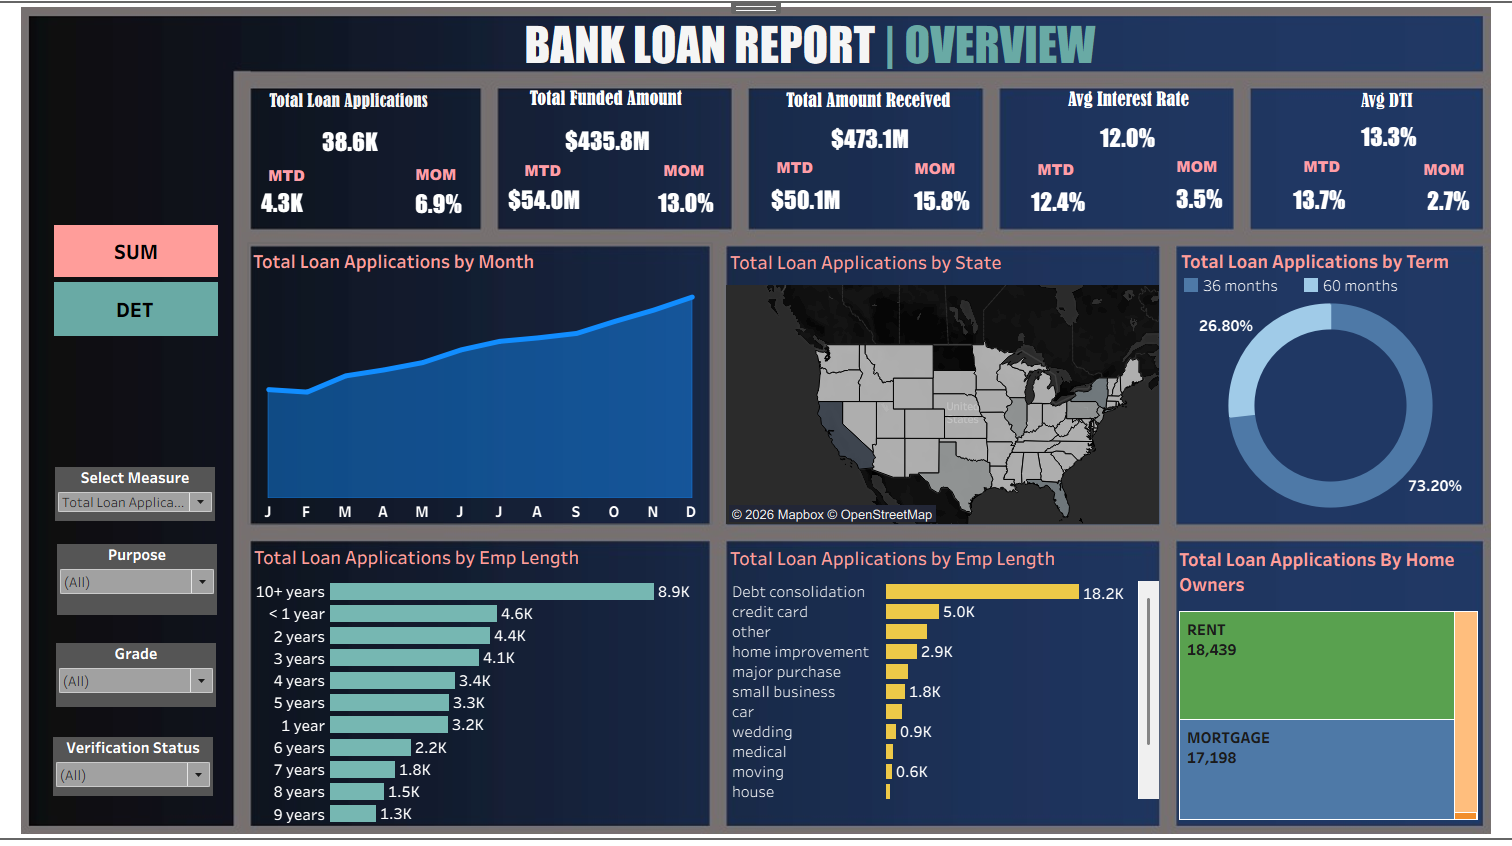

The dashboard page shown, as its layout file describes it:
{"tool":"tableau","page":{"name":"OVERVIEW","canvas":[1000,1000],"units":"permille","ordinal":1},"visuals":[{"type":"image","param":"C:/Users/Dell/OneDrive/Desktop/Bank Loan Project End to End/Tableau Background 2","box":[4.8,9.4,990.3,981.2]},{"type":"text","box":[358,28.2,370.5,59.9]},{"type":"worksheet","title":"Total Funded Amount ","mark":"Automatic","box":[337.9,104.6,144.8,92.8]},{"type":"worksheet","title":"Avg Interest Rate","mark":"Automatic","box":[651.4,105.8,146.7,82.3]},{"type":"worksheet","title":"Total Amount Received ","mark":"Automatic","box":[494.7,106.9,148,82.3]},{"type":"worksheet","title":"Avg DTI ","mark":"Automatic","box":[809.4,106.9,144.8,77.6]},{"type":"worksheet","title":"Total Loan Applications ","mark":"Automatic","box":[183.7,108.1,143,88.1]},{"type":"text","box":[751.4,183.3,32.6,35.2]},{"type":"text","box":[828.2,183.3,30.7,35.2]},{"type":"text","box":[509.7,184.5,32.6,35.2]},{"type":"text","box":[593.1,185.7,33.2,35.2]},{"type":"text","box":[667.5,186.8,29,35.2]},{"type":"text","box":[900.4,186.8,29.6,35.2]},{"type":"text","box":[358,188,34.5,35.2]},{"type":"text","box":[442,188,33.9,35.2]},{"type":"text","box":[196.7,192.7,39.2,38.8]},{"type":"text","box":[292.2,192.7,32.6,35.2]},{"type":"worksheet","title":"MoM Avg  DTI ","mark":"Automatic","box":[888.4,200.9,58.5,84.6]},{"type":"worksheet","title":"MOM Total Loan Application","mark":"Automatic","box":[284.6,205.6,47,81.1]},{"type":"worksheet","title":"MTD Avg  DTI","mark":"Automatic","box":[810,205.6,59.6,71.7]},{"type":"worksheet","title":"MoM Avg INT Rate ","mark":"Automatic","box":[746.5,206.8,42.2,67]},{"type":"worksheet","title":"MTD Total Amount Received ","mark":"Automatic","box":[495.3,211.5,69.6,59.9]},{"type":"worksheet","title":"MTD Total Funded Amount ","mark":"Automatic","box":[337.9,212.7,68.3,58.8]},{"type":"worksheet","title":"MTD Avg INT Rate ","mark":"Automatic","box":[650.2,213.9,64.6,61.1]},{"type":"worksheet","title":"MOM Total Amount Received","mark":"Automatic","box":[582.5,215,58.9,56.4]},{"type":"worksheet","title":"MTD Total Loan Applications","mark":"Automatic","box":[188.9,218.6,50.7,52.9]},{"type":"worksheet","title":"MOM Total Funded Amount","mark":"Automatic","box":[429.5,219.7,55.8,51.7]},{"type":"dashboard-object","box":[76,270.3,99,61.1]},{"type":"worksheet","title":"Month","mark":"Area","rows":["Calculation_1131445127811086","Calculation_1131445127811086"],"cols":["issue_date"],"box":[193.7,292.6,278.8,327.9]},{"type":"worksheet","title":"Term","mark":"Pie","rows":["Calculation_1131445139972112","Calculation_1131445139972112"],"box":[753.8,292.6,185.3,332.6]},{"type":"worksheet","title":"State ","mark":"Multipolygon","box":[481.6,293.8,261.3,327.9]},{"type":"legend","title":"Term","param":"[federated.1vh7bvv0fgq3lf1e7kuf3095420h].[none:term:nk]","box":[756.2,329,178.6,30.6]},{"type":"dashboard-object","box":[76,337.2,99,63.5]},{"type":"parameter","param":"[Parameters].[Parameter 1131445126987787]","box":[76.6,554.6,96.6,63.5]},{"type":"worksheet","title":"Emp length","mark":"Automatic","rows":["emp_length"],"cols":["Calculation_1131445127811086"],"box":[194.3,640.4,277.6,334.9]},{"type":"worksheet","title":"Purpose","mark":"Automatic","rows":["purpose"],"cols":["Calculation_1131445127811086"],"box":[481.6,641.6,262.5,332.6]},{"type":"worksheet","title":"Home Own","mark":"Automatic","box":[752.6,642.8,184.7,332.6]},{"type":"filter","title":"Total Loan Applications ","param":"[federated.1vh7bvv0fgq3lf1e7kuf3095420h].[none:purpose:nk]","box":[77.9,645.1,96.6,83.4]},{"type":"filter","title":"Total Loan Applications ","param":"[federated.1vh7bvv0fgq3lf1e7kuf3095420h].[none:grade:nk]","box":[77.2,761.5,96.6,75.2]},{"type":"filter","title":"Total Loan Applications ","param":"[federated.1vh7bvv0fgq3lf1e7kuf3095420h].[none:verification_status:nk]","box":[75.4,871.9,96.6,69.3]}]}

Visuals, with their boxes on the dashboard's canvas, which has no fixed pixel size, in thousandths of its width and height (x1, y1, x2, y2). These are canvas units, not pixel positions in the 1512x846 screenshot, which may show the page scaled, cropped or inside an application window:
image: box(5, 9, 995, 991)
text: box(358, 28, 728, 88)
"Total Funded Amount " worksheet: box(338, 105, 483, 197)
"Avg Interest Rate" worksheet: box(651, 106, 798, 188)
"Total Amount Received " worksheet: box(495, 107, 643, 189)
"Avg DTI " worksheet: box(809, 107, 954, 184)
"Total Loan Applications " worksheet: box(184, 108, 327, 196)
text: box(751, 183, 784, 218)
text: box(828, 183, 859, 218)
text: box(510, 184, 542, 220)
text: box(593, 186, 626, 221)
text: box(668, 187, 696, 222)
text: box(900, 187, 930, 222)
text: box(358, 188, 392, 223)
text: box(442, 188, 476, 223)
text: box(197, 193, 236, 232)
text: box(292, 193, 325, 228)
"MoM Avg  DTI " worksheet: box(888, 201, 947, 286)
"MOM Total Loan Application" worksheet: box(285, 206, 332, 287)
"MTD Avg  DTI" worksheet: box(810, 206, 870, 277)
"MoM Avg INT Rate " worksheet: box(746, 207, 789, 274)
"MTD Total Amount Received " worksheet: box(495, 212, 565, 271)
"MTD Total Funded Amount " worksheet: box(338, 213, 406, 272)
"MTD Avg INT Rate " worksheet: box(650, 214, 715, 275)
"MOM Total Amount Received" worksheet: box(582, 215, 641, 271)
"MTD Total Loan Applications" worksheet: box(189, 219, 240, 272)
"MOM Total Funded Amount" worksheet: box(430, 220, 485, 271)
dashboard-object: box(76, 270, 175, 331)
"Month" worksheet (Area marks): box(194, 293, 472, 620)
"Term" worksheet (Pie marks): box(754, 293, 939, 625)
"State " worksheet (Multipolygon marks): box(482, 294, 743, 622)
"Term" legend: box(756, 329, 935, 360)
dashboard-object: box(76, 337, 175, 401)
parameter: box(77, 555, 173, 618)
"Emp length" worksheet: box(194, 640, 472, 975)
"Purpose" worksheet: box(482, 642, 744, 974)
"Home Own" worksheet: box(753, 643, 937, 975)
"Total Loan Applications " filter: box(78, 645, 174, 728)
"Total Loan Applications " filter: box(77, 762, 174, 837)
"Total Loan Applications " filter: box(75, 872, 172, 941)
